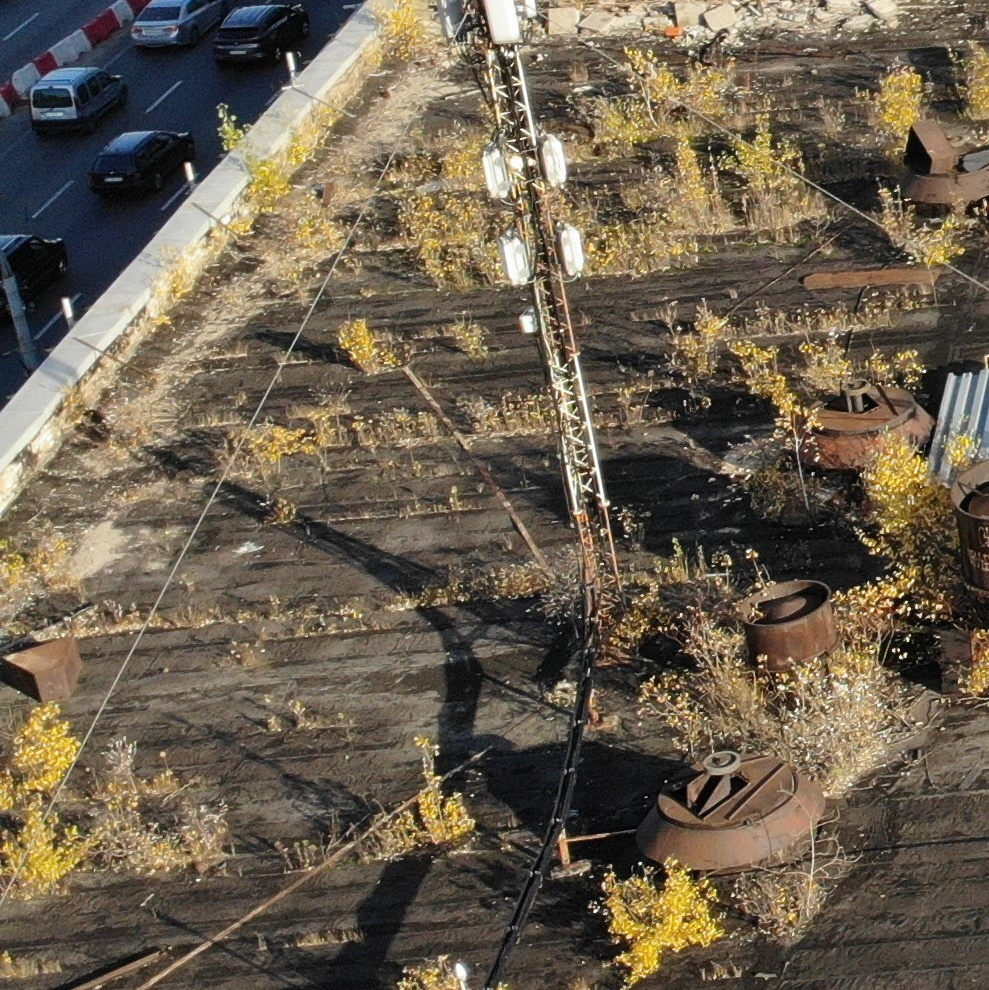tree: (84, 735, 244, 899), (578, 829, 735, 988), (858, 442, 970, 637), (653, 616, 780, 783), (352, 729, 490, 862), (786, 652, 896, 811), (610, 28, 749, 153), (16, 715, 92, 915), (719, 110, 839, 236), (589, 177, 699, 294), (404, 183, 510, 304), (658, 116, 741, 255), (206, 105, 303, 219), (854, 56, 940, 177), (868, 183, 966, 284), (422, 89, 503, 208), (223, 414, 303, 521), (461, 394, 583, 462), (729, 337, 806, 440), (20, 538, 84, 648), (326, 314, 399, 410), (368, 2, 456, 81), (843, 325, 924, 398), (664, 302, 721, 399), (434, 304, 491, 385)
